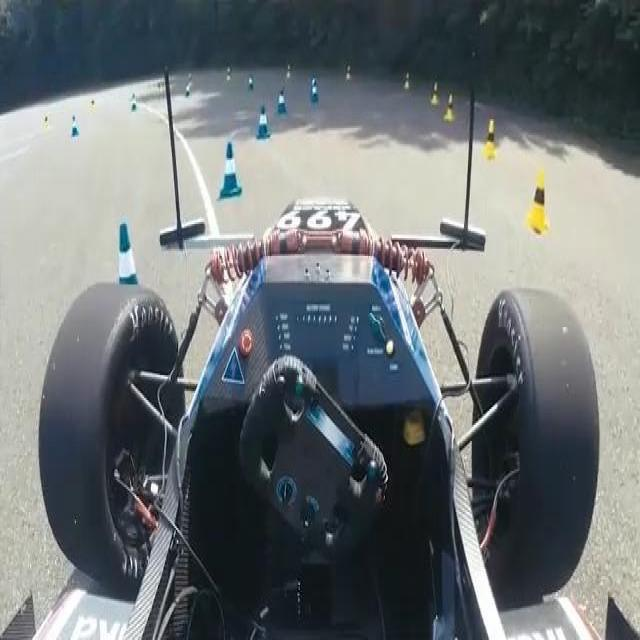blue_cone: (115, 215, 145, 294), (217, 140, 247, 203), (253, 101, 273, 143), (274, 85, 291, 118), (307, 71, 320, 104)
yellow_cone: (526, 180, 554, 240), (485, 112, 499, 165), (429, 71, 442, 111), (341, 57, 356, 89), (400, 62, 412, 87), (448, 94, 457, 123)
